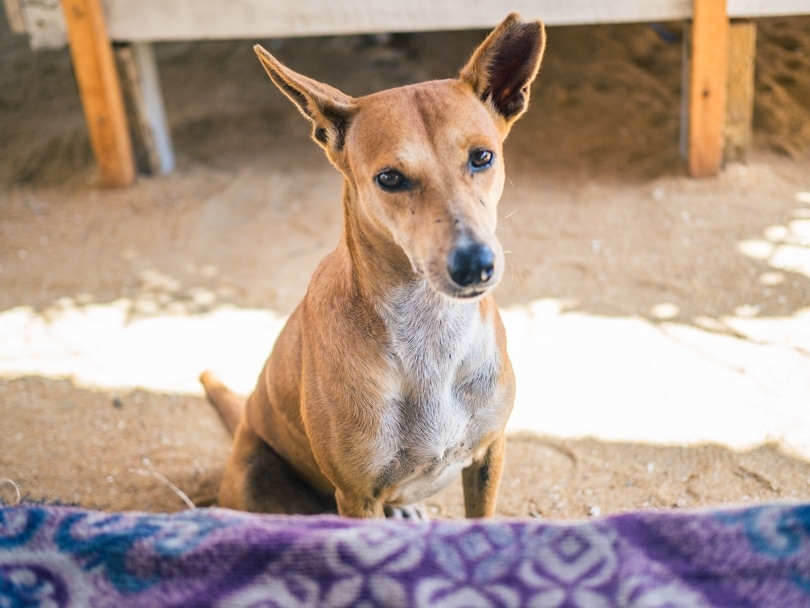Dog: (238, 3, 569, 530)
